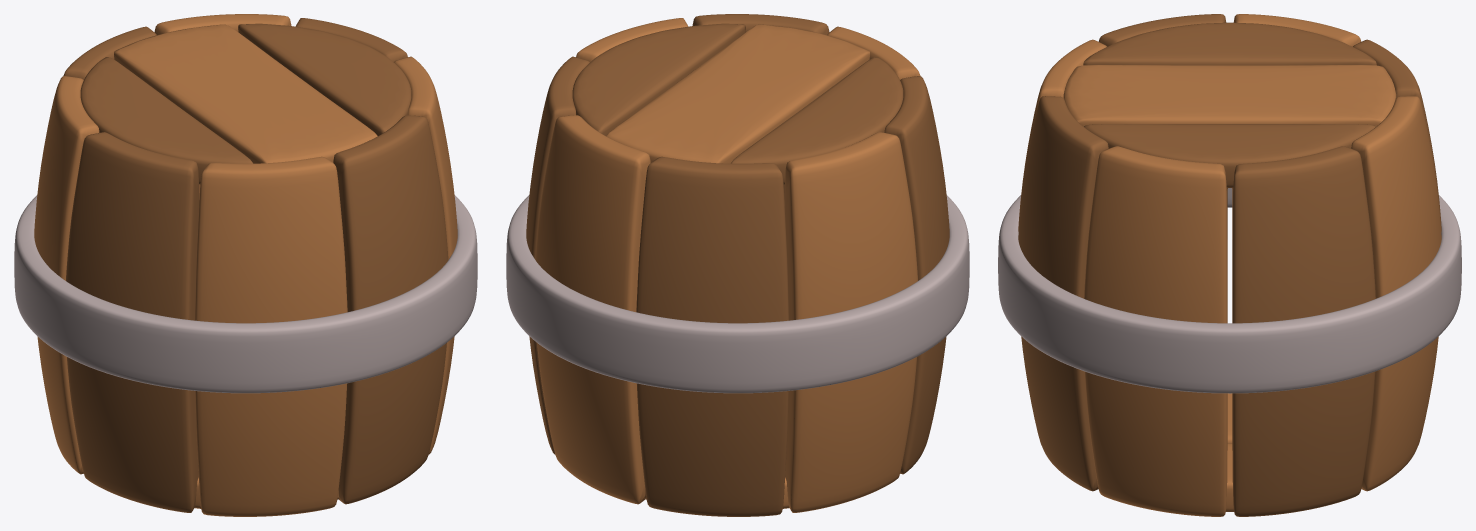
File: Barril.fbx
3 renders of one model, left to right at view 1: azimuth 30°, elevation 25°; view 2: azimuth 150°, elevation 25°; view 3: azimuth 270°, elevation 25°, orthographic.
Visible parts, largest first — view 1: Cylinder.008; view 2: Cylinder.008; view 3: Cylinder.008.
Part boxes in pixels (bbox=[...]): Cylinder.008: bbox=[14, 14, 477, 516]; Cylinder.008: bbox=[506, 14, 969, 516]; Cylinder.008: bbox=[998, 14, 1461, 516].
Bounding box in the file's own units: 138 × 115 × 138.
